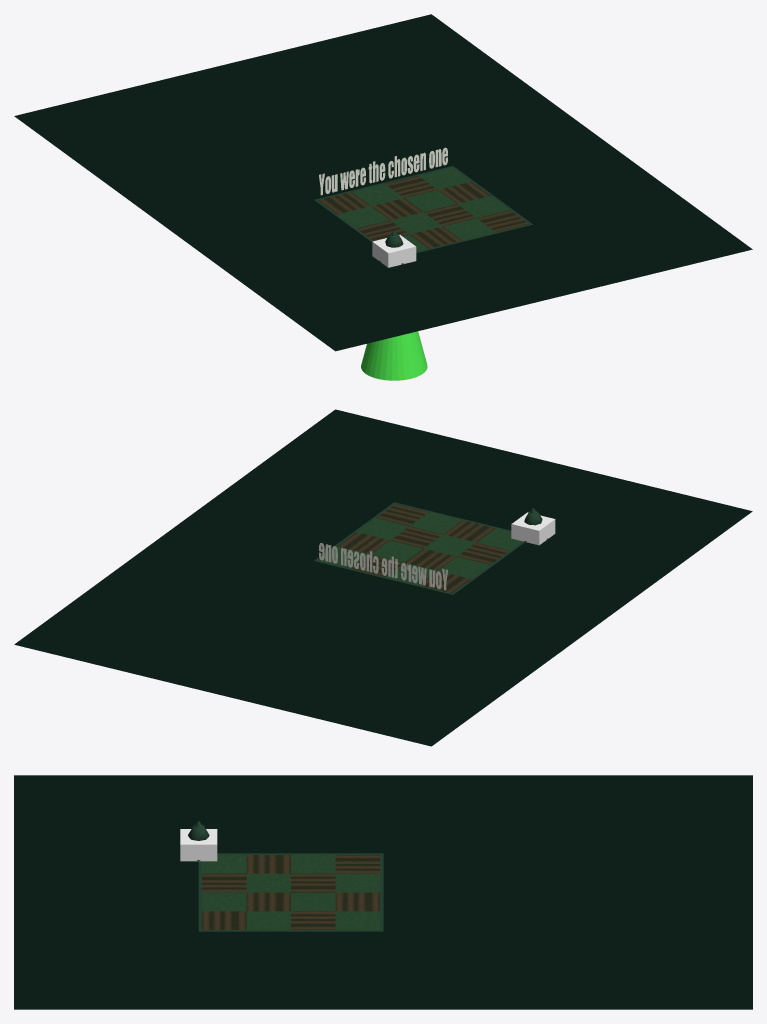
3 views of the same model, one above another, from view 1: azimuth 30°, elevation 25°; view 2: azimuth 150°, elevation 25°; view 3: azimuth 270°, elevation 25° (orthographic). The views are drawn at different scales.
Parts seen in each view (by area): view 1: Grass, ufo, Cube; view 2: Grass, Cube; view 3: Grass, Cube.
Part boxes in pixels (x1,y1,x2,y2): Grass: [14, 14, 752, 351]; ufo: [361, 260, 427, 380]; Cube: [372, 235, 416, 267]; Grass: [14, 409, 752, 746]; Cube: [511, 512, 555, 545]; Grass: [14, 775, 752, 1009]; Cube: [180, 829, 217, 861].
Size of the model in its own units: 30 by 9.32 by 40.
Materials: 1 (1 with a texture image).
